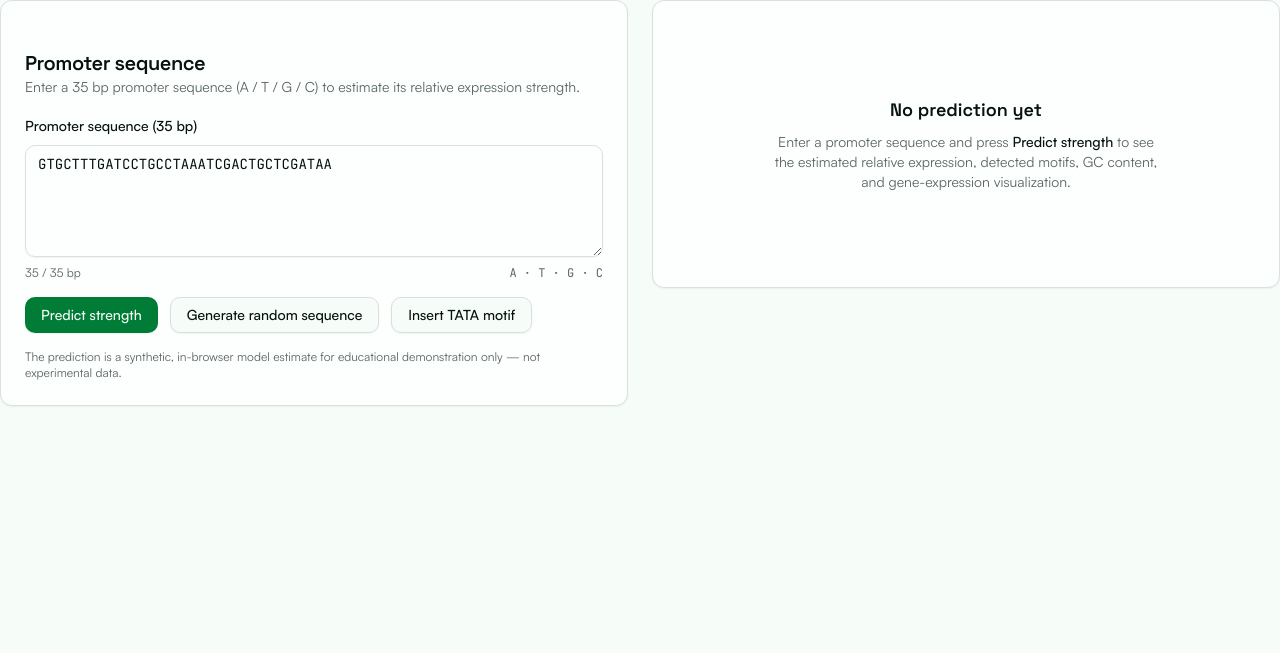
Test case: PredictPage › shows a prediction result after entering a valid sequence and predicting
Replace the text in the text box with test id "sequence.input" with "TTGACGGCTAGCTCAGTCCTAGGTACAGTGCTAGC": x=314, y=201 [25,145,603,257]
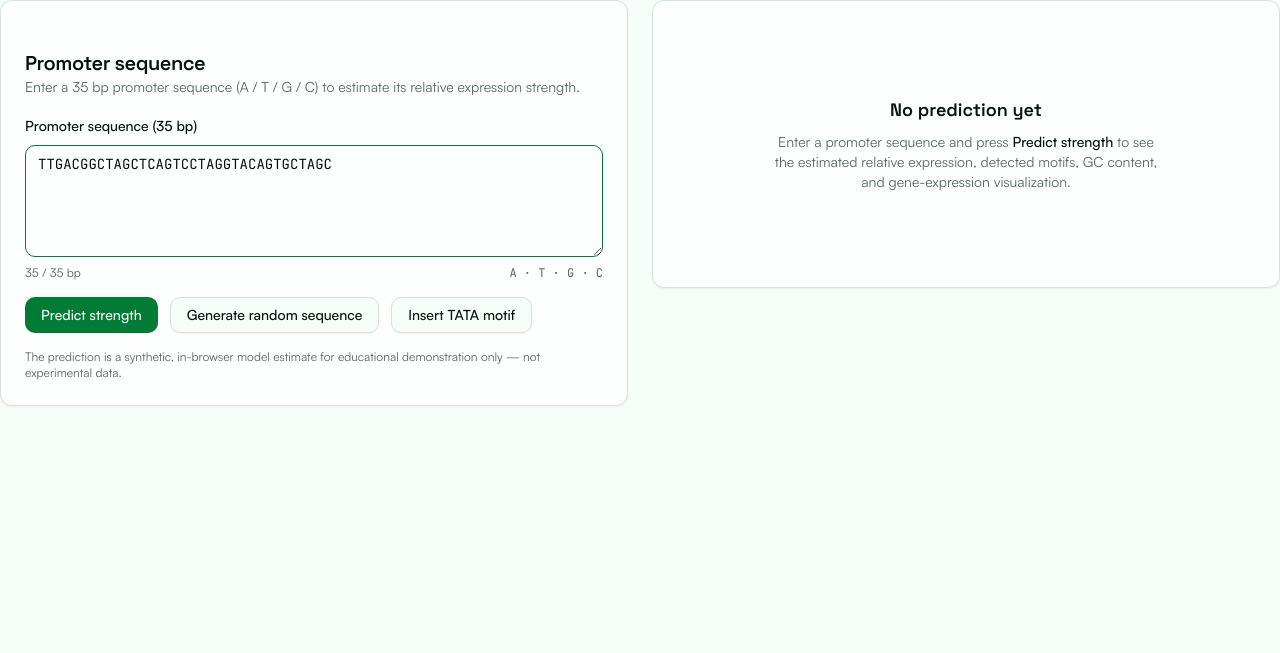
Click the button with test id "predict_button": x=91, y=315 [25,297,158,333]
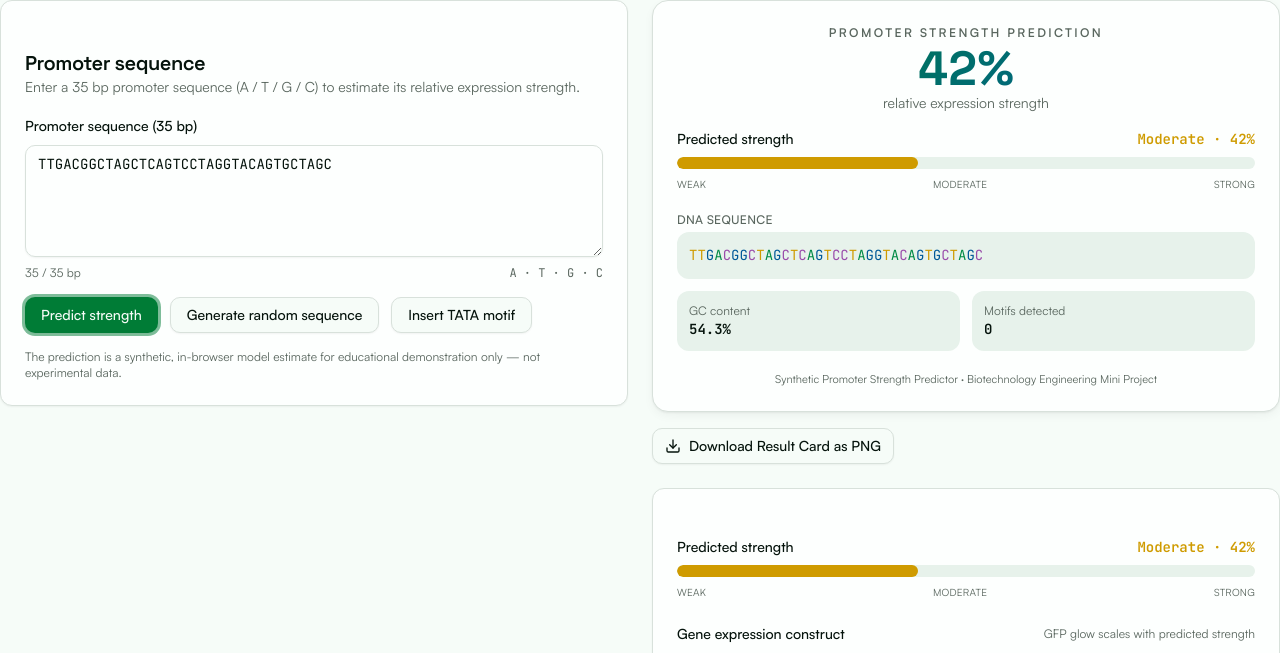
Check: the element with test id "result_card" is shown, box [652,0,1279,412]
Check: the text "Promoter strength prediction" is shown, box [829,25,1103,40]
Check: the text "Motifs detected" is shown, box [984,303,1065,318]
